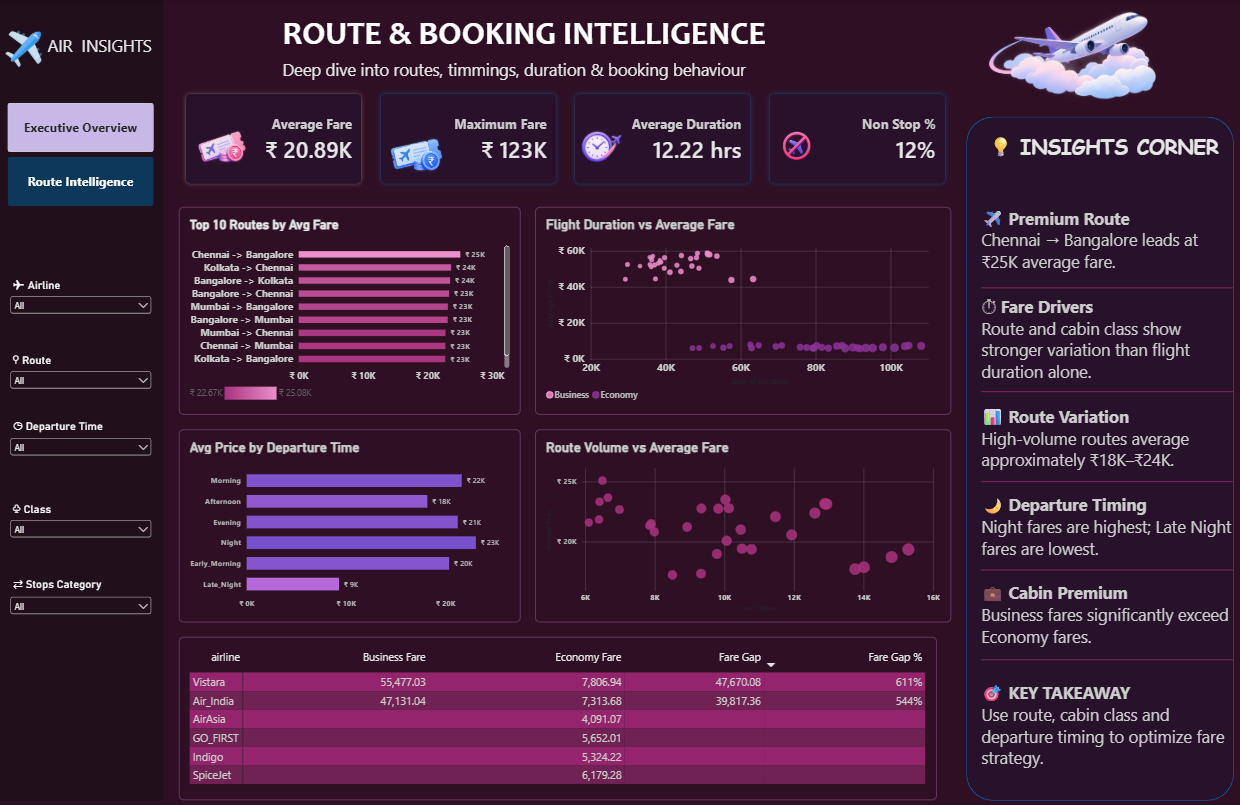

The dashboard page shown, as its layout file describes it:
{"tool":"powerbi","page":{"name":"Route Intelligence","canvas":[2005,1305],"ordinal":1},"visuals":[{"type":"textbox","box":[456,24,888,72],"z":0},{"type":"textbox","box":[456,96,864,48],"z":1000},{"type":"shape","box":[0,0,264,1296],"z":2000},{"type":"textbox","box":[76.1,59.2,185.9,52.8],"z":3000},{"type":"slicer","fields":{"Values":["airlines_flights_data.airline"]},"box":[12.7,448,236.7,69.7],"z":4000},{"type":"slicer","fields":{"Values":["airlines_flights_data.Route"]},"box":[12.7,568.4,236.7,76.1],"z":5000},{"type":"slicer","fields":{"Values":["airlines_flights_data.departure_time"]},"box":[12.7,680.4,236.7,88.7],"z":6000},{"type":"slicer","fields":{"Values":["airlines_flights_data.class"]},"box":[12.7,809.3,236.7,82.4],"z":7000},{"type":"slicer","fields":{"Values":["airlines_flights_data.Stops Category"]},"box":[12.7,936.1,236.7,71.8],"z":8000},{"type":"cardVisual","fields":{"Data":["airlines_flights_data.Average Price","airlines_flights_data.Maximum Price","airlines_flights_data.Average Duration KPI","airlines_flights_data.Non Stop %"]},"box":[288,144,1248,168],"z":9000},{"type":"clusteredBarChart","title":"Top 10 Routes by Avg Fare","fields":{"Category":["airlines_flights_data.Route"],"Y":["airlines_flights_data.Average Price"]},"box":[288,336,552,336],"z":10000},{"type":"clusteredBarChart","title":"Avg Price by Departure Time","fields":{"Category":["airlines_flights_data.departure_time"],"Y":["airlines_flights_data.Average Price"]},"box":[288,696,552,312],"z":11000},{"type":"image","box":[0,52.8,76.1,59.2],"z":12000},{"type":"pageNavigator","box":[12.7,169,236.7,166.9],"z":13000},{"type":"scatterChart","title":"Flight Duration vs Average Fare","fields":{"Category":["airlines_flights_data.Route"],"Series":["airlines_flights_data.class"],"Size":["airlines_flights_data.Total Flights"],"X":["Sum(airlines_flights_data.duration)"],"Y":["airlines_flights_data.Average Price"]},"box":[864,336,672,336],"z":14000},{"type":"scatterChart","title":"Route Volume vs Average Fare","fields":{"Category":["airlines_flights_data.Route"],"Size":["airlines_flights_data.Total Flights"],"X":["airlines_flights_data.Total Flights"],"Y":["airlines_flights_data.Average Price"]},"box":[864,696,672,312],"z":15000},{"type":"pivotTable","fields":{"Rows":["airlines_flights_data.airline"],"Values":["airlines_flights_data.Business Fare","airlines_flights_data.Economy Fare","airlines_flights_data.Fare Gap","airlines_flights_data.Fare Gap %"]},"box":[288,1032,1224,264],"z":16000},{"type":"shape","box":[1560,192,432,1104],"z":17000},{"type":"textbox","box":[1584,216,384,72],"z":18000},{"type":"image","box":[1536,0,384,168],"z":19000},{"type":"image","box":[312,192,96,96],"z":20000},{"type":"image","box":[624,216,96,72],"z":21000},{"type":"image","box":[936,192,72,96],"z":22000},{"type":"image","box":[1248,216,72,48],"z":23000},{"type":"textbox","box":[1584,336,408,960],"z":24000},{"type":"shape","box":[1584,432,408,72],"z":24001},{"type":"shape","box":[1584,600,408,72],"z":24002},{"type":"shape","box":[1584,744,408,72],"z":24003},{"type":"shape","box":[1584,840,408,168],"z":24004},{"type":"shape","box":[1584,936,408,264],"z":24005}]}

Visuals, with their boxes in screenshot pixels (x1, y1, x2, y2), scaled from the page's 2005x1305 canvas onto the 1240x805 screenshot:
textbox: detection(282, 15, 831, 59)
textbox: detection(282, 59, 816, 89)
shape: detection(0, 0, 163, 799)
textbox: detection(47, 37, 162, 69)
slicer - airlines_flights_data.airline: detection(8, 276, 154, 319)
slicer - airlines_flights_data.Route: detection(8, 351, 154, 398)
slicer - airlines_flights_data.departure_time: detection(8, 420, 154, 474)
slicer - airlines_flights_data.class: detection(8, 499, 154, 550)
slicer - airlines_flights_data.Stops Category: detection(8, 577, 154, 622)
cardVisual - airlines_flights_data.Average Price x airlines_flights_data.Maximum Price: detection(178, 89, 950, 192)
"Top 10 Routes by Avg Fare" clusteredBarChart: detection(178, 207, 520, 415)
"Avg Price by Departure Time" clusteredBarChart: detection(178, 429, 520, 622)
image: detection(0, 33, 47, 69)
pageNavigator: detection(8, 104, 154, 207)
"Flight Duration vs Average Fare" scatterChart: detection(534, 207, 950, 415)
"Route Volume vs Average Fare" scatterChart: detection(534, 429, 950, 622)
pivotTable - airlines_flights_data.airline x airlines_flights_data.Business Fare: detection(178, 637, 935, 799)
shape: detection(965, 118, 1232, 799)
textbox: detection(980, 133, 1217, 178)
image: detection(950, 0, 1187, 104)
image: detection(193, 118, 252, 178)
image: detection(386, 133, 445, 178)
image: detection(579, 118, 623, 178)
image: detection(772, 133, 816, 163)
textbox: detection(980, 207, 1232, 799)
shape: detection(980, 266, 1232, 311)
shape: detection(980, 370, 1232, 415)
shape: detection(980, 459, 1232, 503)
shape: detection(980, 518, 1232, 622)
shape: detection(980, 577, 1232, 740)
